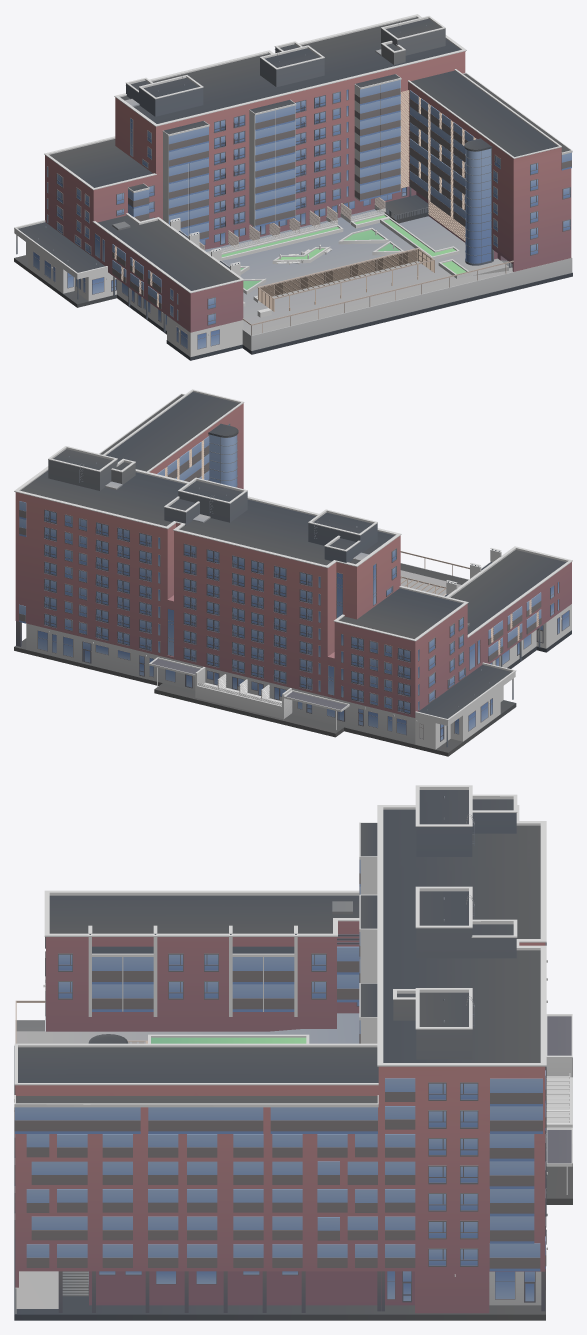
File: ark_unikko (2).fbx
3 views of the same model, one above another, from view 1: azimuth 30°, elevation 25°; view 2: azimuth 150°, elevation 25°; view 3: azimuth 270°, elevation 25° (orthographic). The views are drawn at different scales.
Parts seen in each view (by area): view 1: ark_unikko; view 2: ark_unikko; view 3: ark_unikko.
Boxes of the visible parts, x1,y1,x2,y2 form: ark_unikko: [14, 14, 572, 360]; ark_unikko: [14, 389, 572, 756]; ark_unikko: [14, 785, 572, 1320].
Bounding box in the file's own units: 213 × 84.56 × 149.
